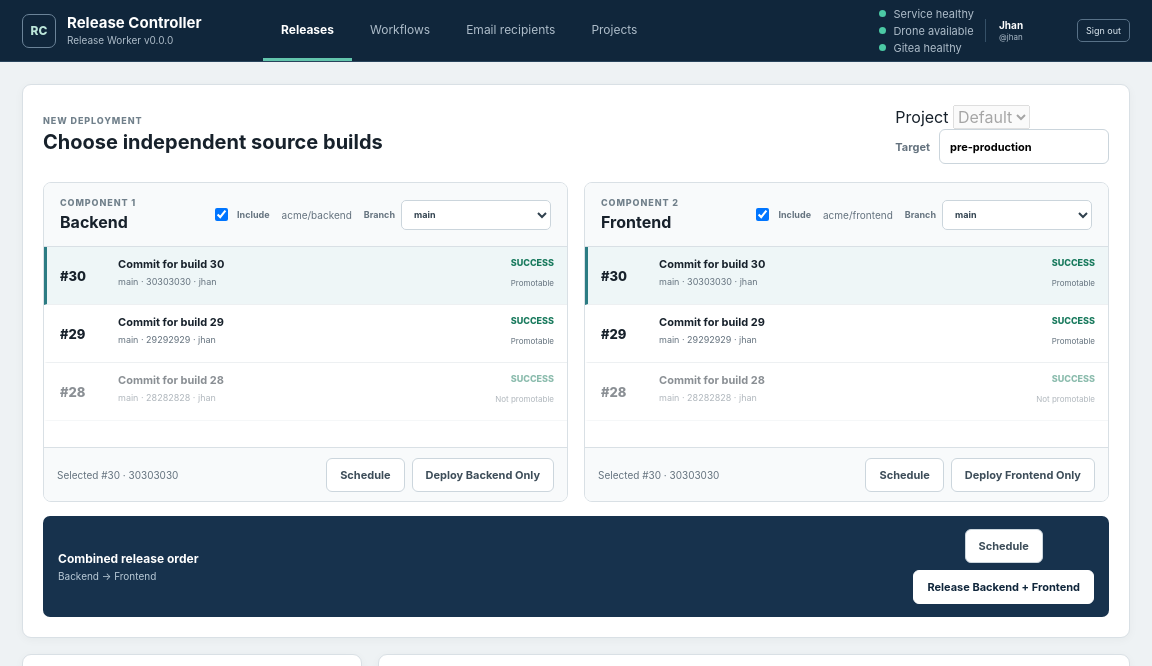
Test: 排程 › 取消排程會對正確的端點送出 DELETE 並更新狀態
Expected: the button with class "build-row" below "acme/frontend" is shown, [585, 247, 1108, 305]
Click the link "Workflows".
click(400, 29)  # box [370, 22, 430, 36]
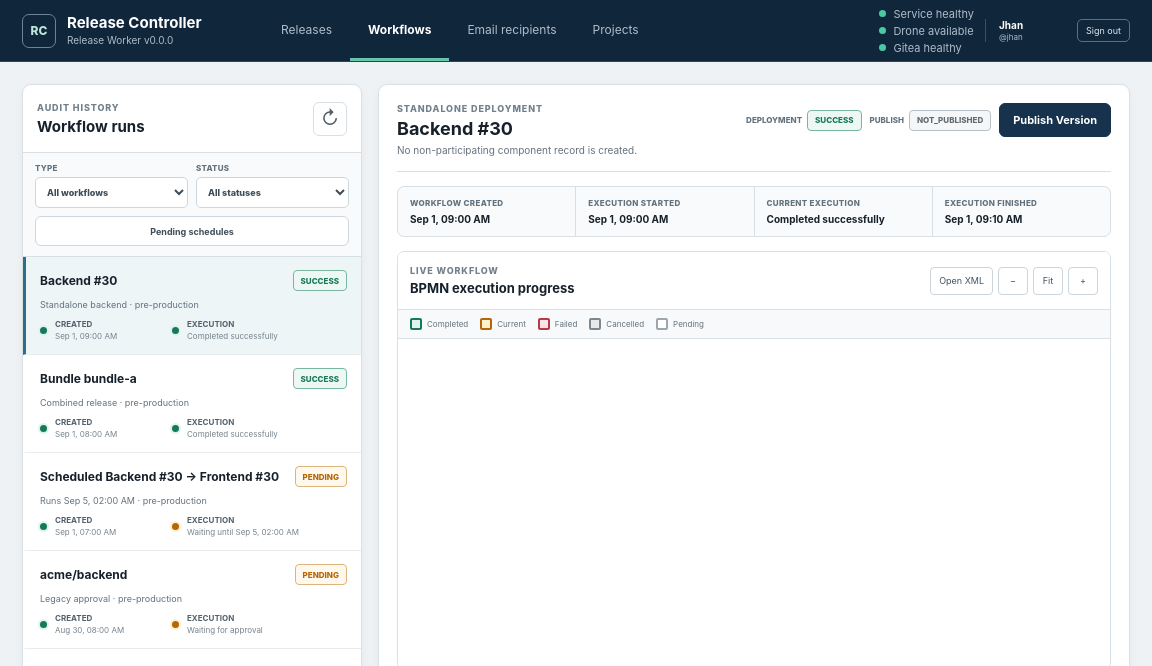
Click the link with class "history-row" that starts with "Scheduled Backend #30 → Frontend #30".
click(192, 502)  # box [23, 453, 361, 551]
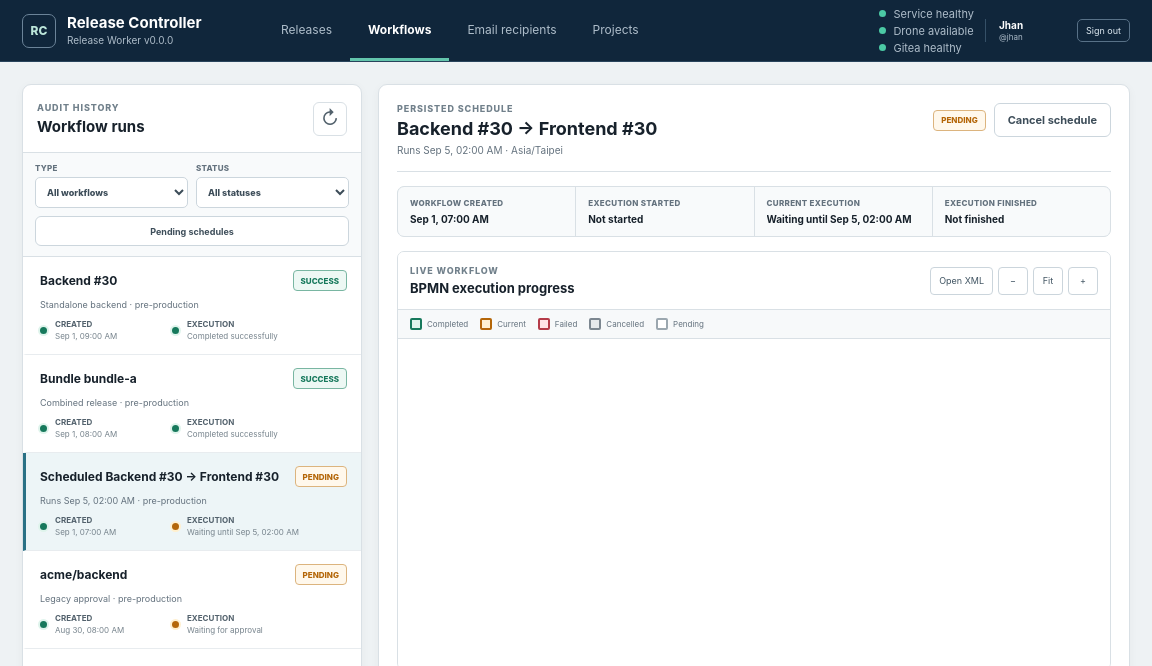
Expected: the button with id "cancel-schedule" is shown
Click the button with id "cancel-schedule".
click(1052, 120)  # box [994, 103, 1111, 137]
(page scrolled)
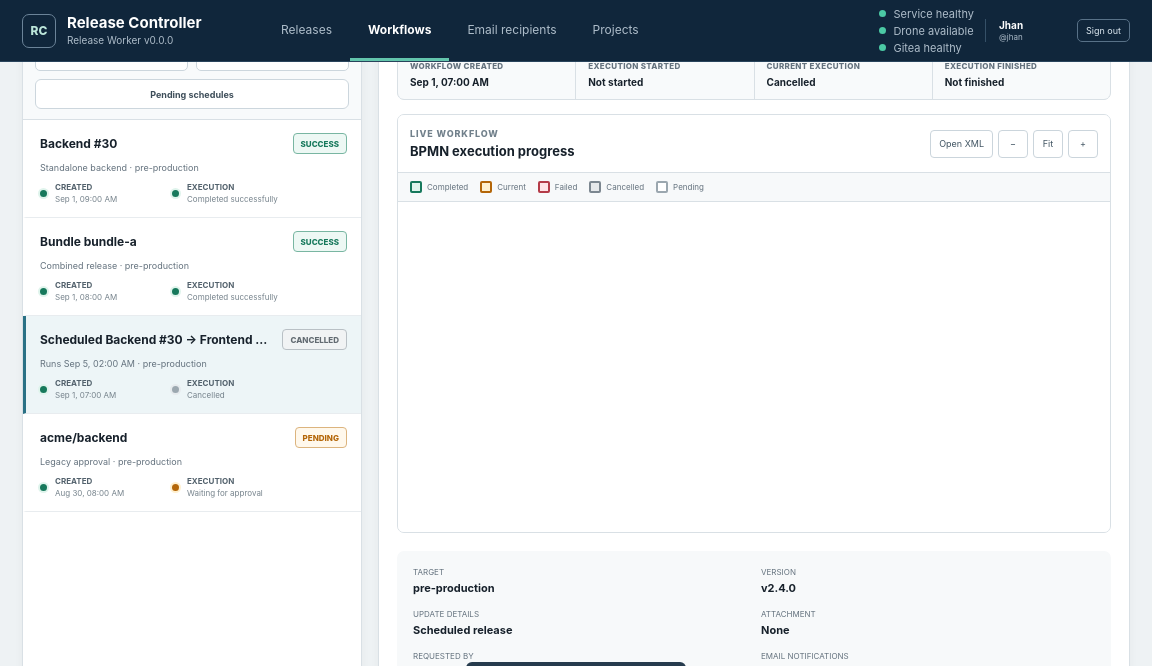
Expected: the button with id "cancel-schedule" is gone
